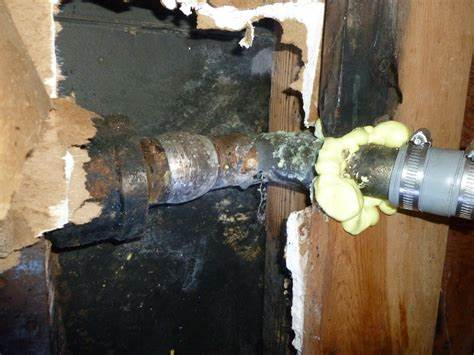Low: (78, 109, 261, 210)
